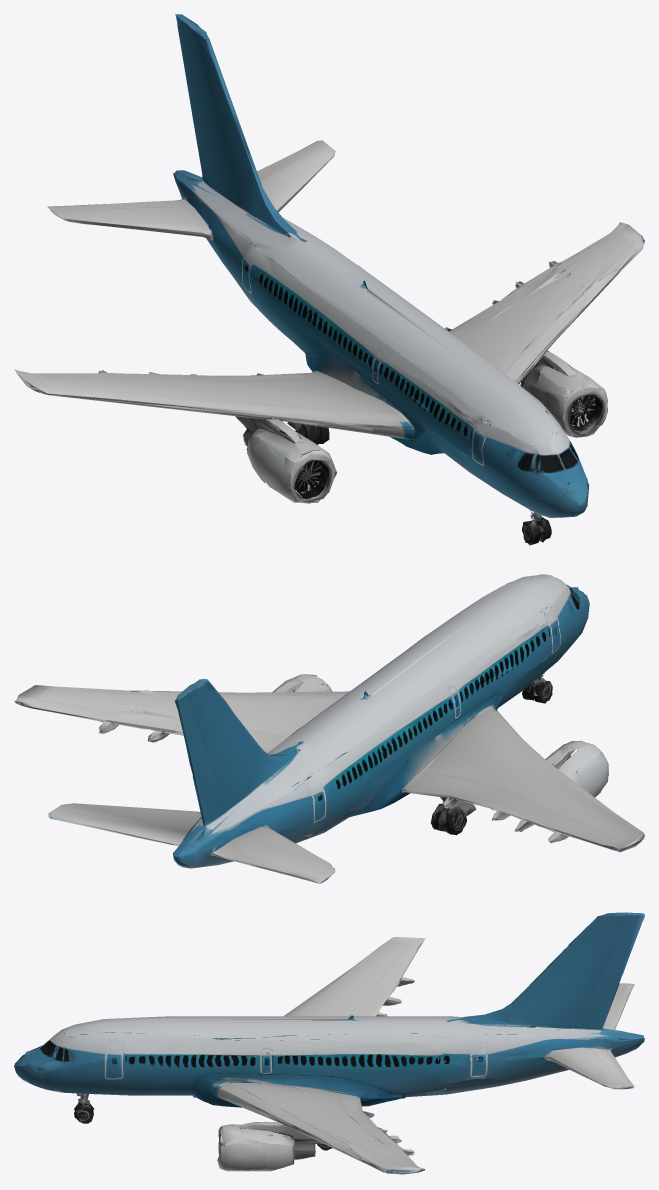
Rendered from airliner-blue.glb.
The picture shows the model from 3 angles, top to bottom: view 1: azimuth 30°, elevation 25°; view 2: azimuth 150°, elevation 25°; view 3: azimuth 270°, elevation 25°; orthographic projection. The views are drawn at different scales.
Parts seen in each view (by area): view 1: node_0; view 2: node_0; view 3: node_0.
Boxes of the visible parts, <box> form: node_0: <box>14,14,644,545</box>; node_0: <box>14,574,644,883</box>; node_0: <box>14,912,644,1174</box>.
Bounding box in the file's own units: 40.94 × 17.03 × 46.84.
1 material, 1 textured.
